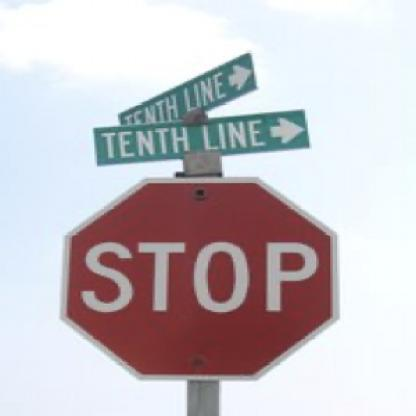stop: (57, 172, 340, 380)
